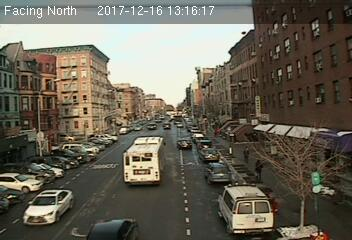bus: (121, 136, 165, 185)
car: (19, 187, 74, 223), (206, 163, 232, 185), (199, 147, 220, 160), (175, 137, 193, 151)
police: (218, 181, 275, 234)
